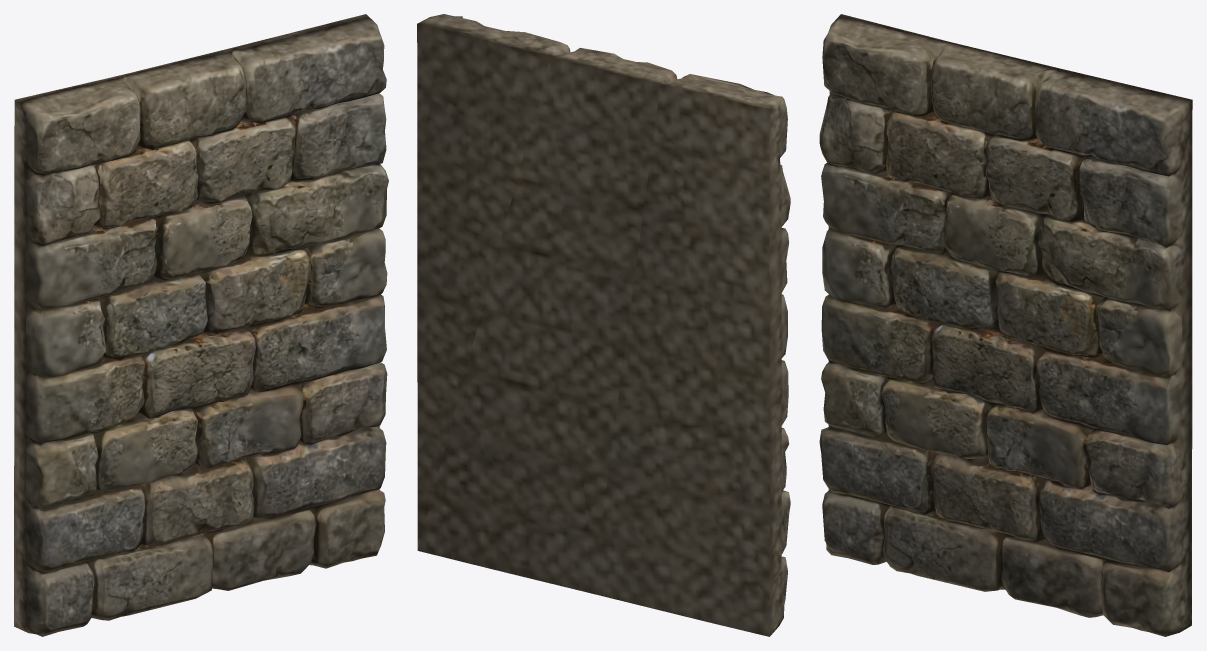
The model's file is Castle wall (tex_fortress_wall).glb.
The picture shows the model from 3 angles, left to right: view 1: azimuth 30°, elevation 25°; view 2: azimuth 150°, elevation 25°; view 3: azimuth 330°, elevation 25°; orthographic projection.
Visible parts, largest first — view 1: geometry_0; view 2: geometry_0; view 3: geometry_0.
Part boxes in pixels (<box>): geometry_0: <box>14,14,388,636</box>; geometry_0: <box>417,14,790,636</box>; geometry_0: <box>819,14,1192,636</box>.
Bounding box in the file's own units: 0.6689 × 0.9526 × 0.0835.
Materials: 1 (1 with a texture image).
